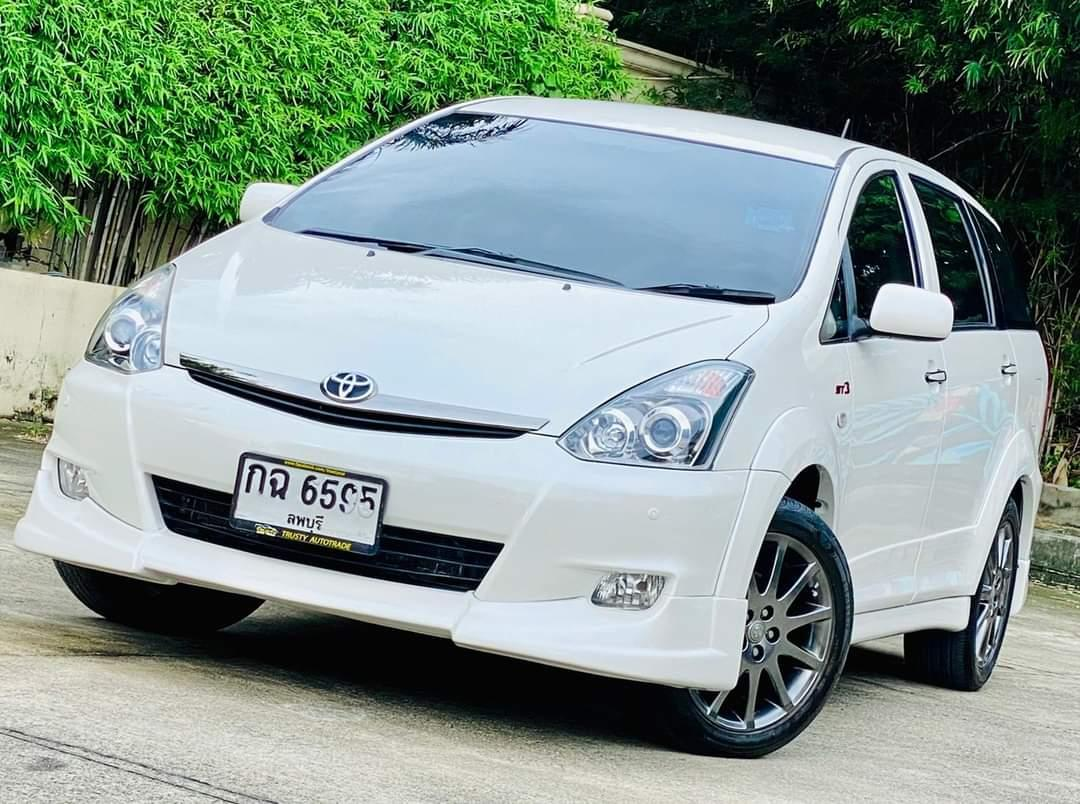license-plate: (225, 447, 399, 559)
